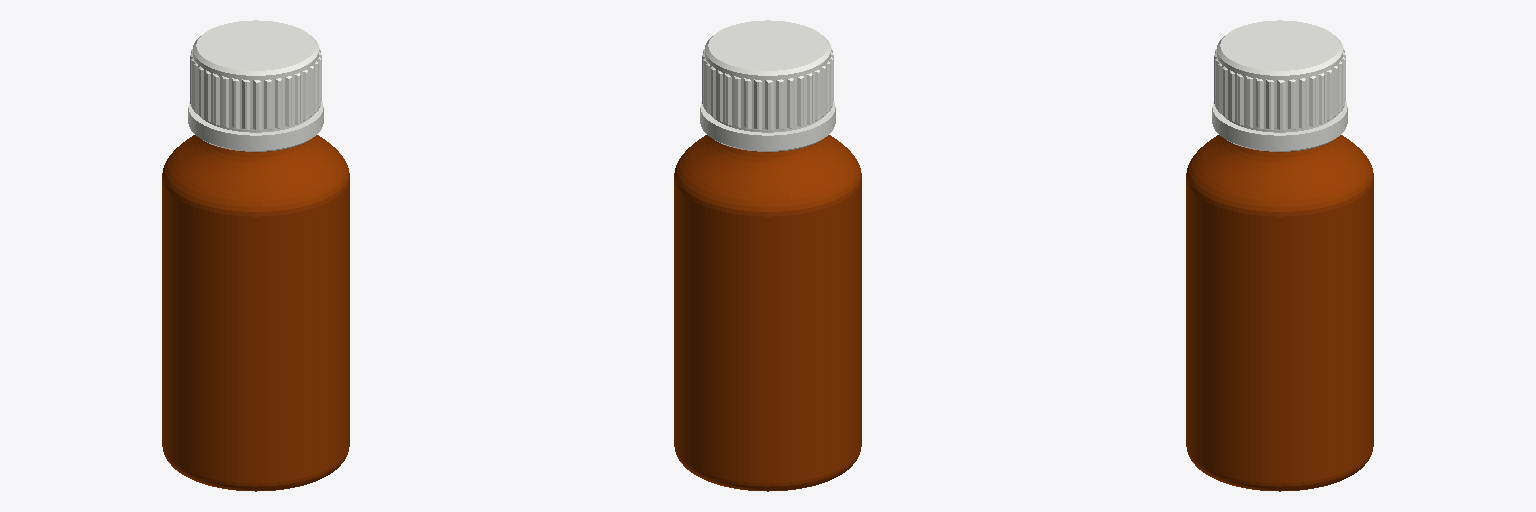
robot.urdf — amber_060ml:
<?xml version="1.0" encoding="utf-8"?>
<!-- Generated by scripts/generate_hand_scene.py; do not edit by hand. -->
<!-- amber_060ml.xml as a URDF: one free rigid body, origin bottom-centre, +Z up.
     The meshes collide as convex hulls, as in MuJoCo. -->
<robot name="amber_060ml">
  <link name="amber_060ml">
    <inertial>
      <origin xyz="-7.64794e-06 -1.7107e-11 0.0453813" rpy="-0.000447718 0 1.5708"/>
      <mass value="0.0645591"/>
      <inertia ixx="6.8222e-05" ixy="0" ixz="0" iyy="6.82219e-05" iyz="0" izz="1.82996e-05"/>
    </inertial>
    <visual>
      <geometry><mesh filename="amber_060ml_00.obj"/></geometry>
      <material name="amber_060ml_0"><color rgba="0.93 0.93 0.91 1"/></material>
    </visual>
    <collision>
      <geometry><mesh filename="amber_060ml_00.obj"/></geometry>
    </collision>
    <visual>
      <geometry><mesh filename="amber_060ml_01.obj"/></geometry>
      <material name="amber_060ml_1"><color rgba="0.62 0.28 0.05 0.5"/></material>
    </visual>
    <collision>
      <geometry><mesh filename="amber_060ml_01.obj"/></geometry>
    </collision>
  </link>
</robot>

--- What the picture shows (computed from the rendered views, not written in the file) ---
3 views of the same robot in one strip: view 1: azimuth 30°, elevation 25°; view 2: azimuth 150°, elevation 25°; view 3: azimuth 270°, elevation 25° (orthographic).
Robot: amber_060ml — 1 links, 0 joints (none); root link amber_060ml; default pose: all joints at 0.
Visible links, largest first — view 1: amber_060ml; view 2: amber_060ml; view 3: amber_060ml.
Boxes of the visible links, x1,y1,x2,y2 form: amber_060ml: (162, 20, 349, 491); amber_060ml: (674, 20, 861, 491); amber_060ml: (1186, 20, 1373, 491).
Size in the robot's own frame: 0.04 by 0.04 by 0.0966 metres.
2 mesh visuals loaded from 2 distinct referenced files (2 OBJ).
